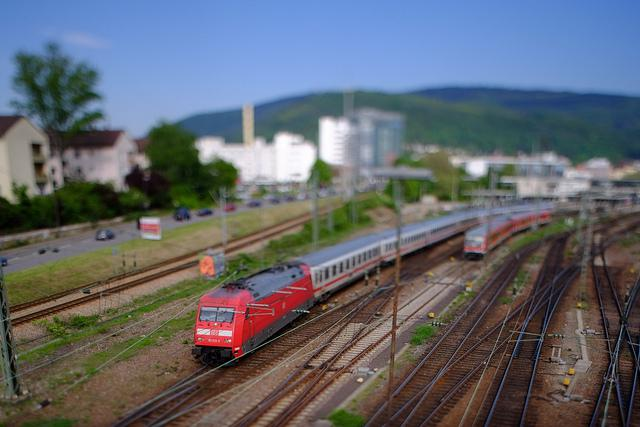Train: (192, 207, 555, 372), (462, 212, 552, 261)
